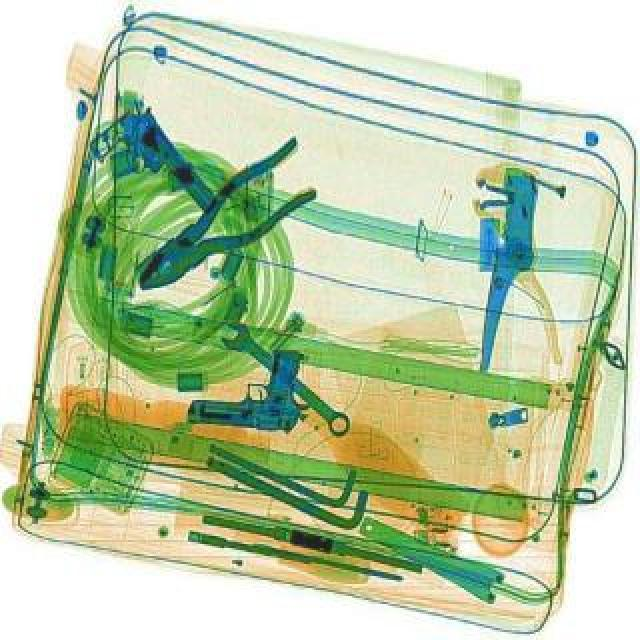gun: (80, 98, 224, 242), (184, 342, 318, 430)
scissors: (212, 314, 356, 440)
wrench: (114, 132, 336, 304)
